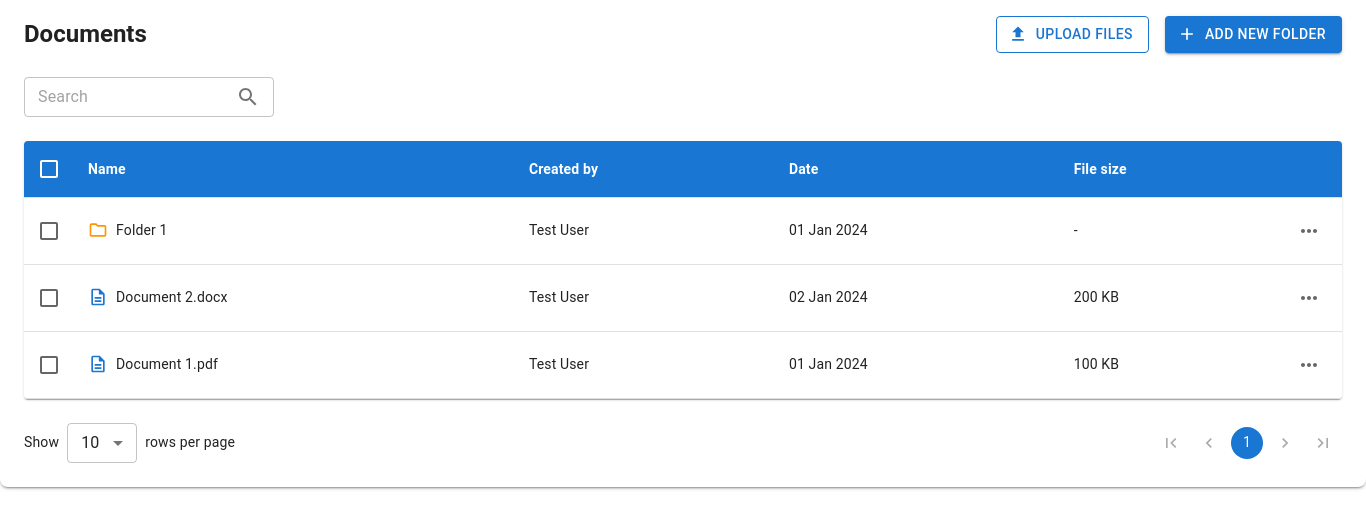
Test: DocumentListing › should select and unselect items
Expected: the text "Document 1.pdf" is shown, [116,354,218,374]
Click the checkbox next to "Folder 1" at point(49, 230), box [37,218,61,242]
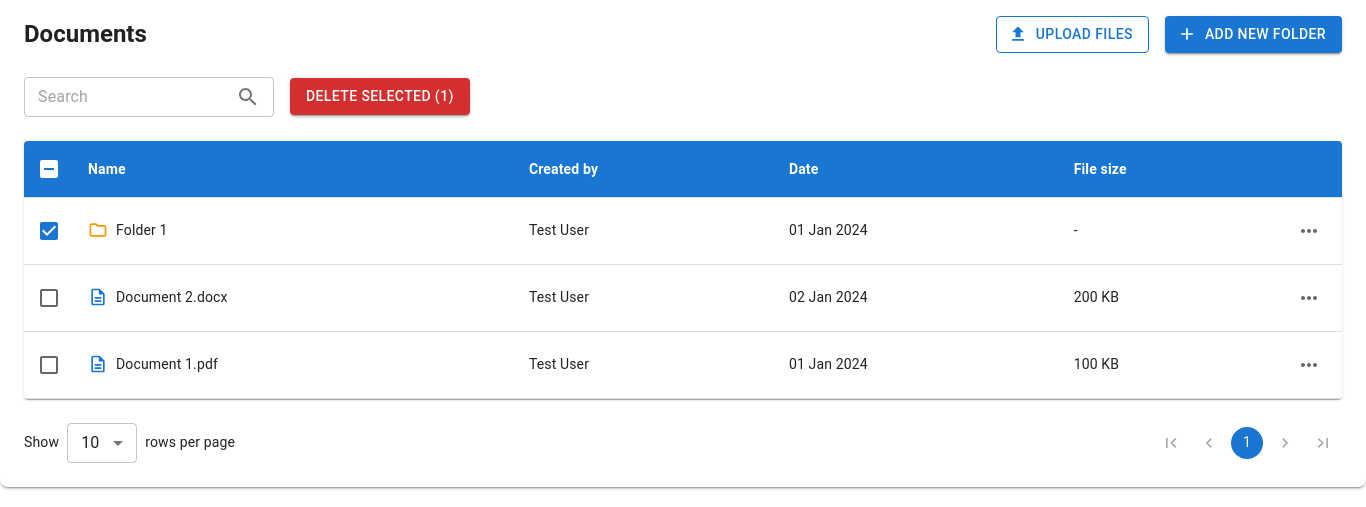
Now the button "Delete Selected (1)" is shown, box [290,78,470,115]
Click the checkbox next to "Folder 1" at point(49, 230), box [37,218,61,242]
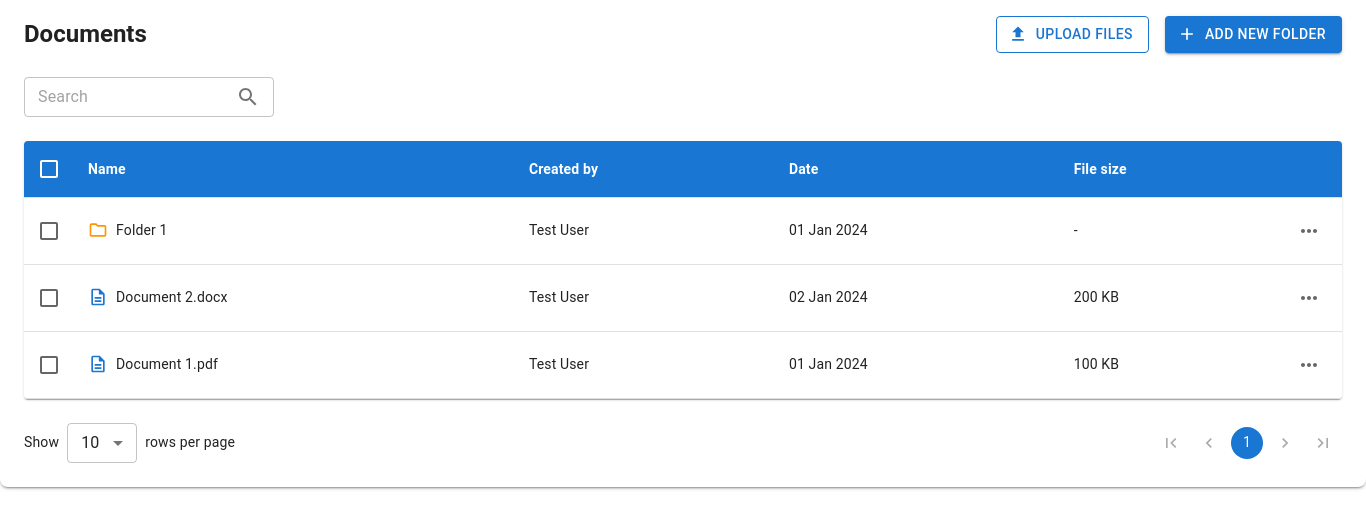
Now the button "Delete Selected" is gone
